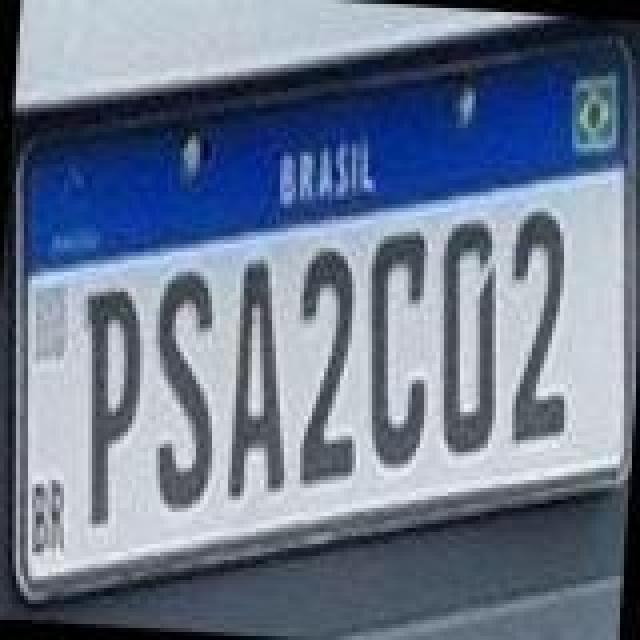2: (286, 244, 370, 492), (498, 206, 582, 450)
A: (226, 256, 302, 504)
C: (358, 226, 442, 470)
D: (432, 214, 512, 458)
P: (72, 286, 152, 530)
S: (142, 268, 226, 516)
